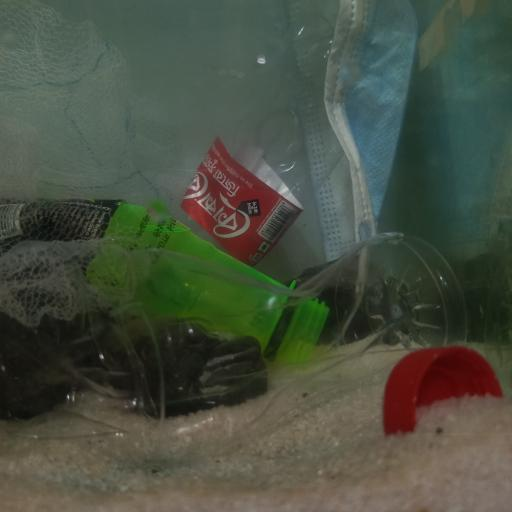bottle_cap: (382, 345, 501, 444)
mask: (302, 0, 414, 258)
net: (0, 0, 197, 337)
plastic_bottle: (14, 230, 461, 453), (0, 197, 330, 367), (184, 21, 347, 263)
